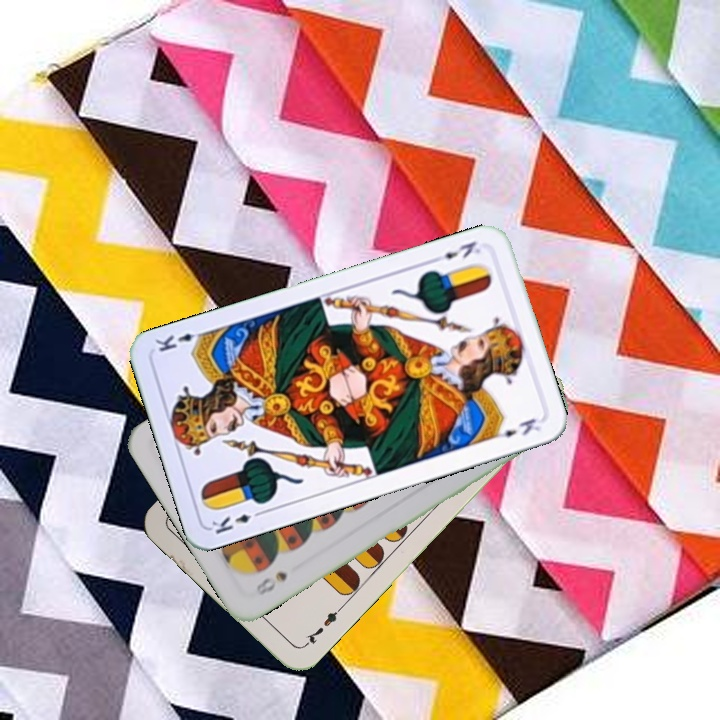E7: (299, 603, 345, 650)
EK: (207, 506, 266, 537), (428, 237, 484, 266)
S8: (251, 567, 290, 598)
